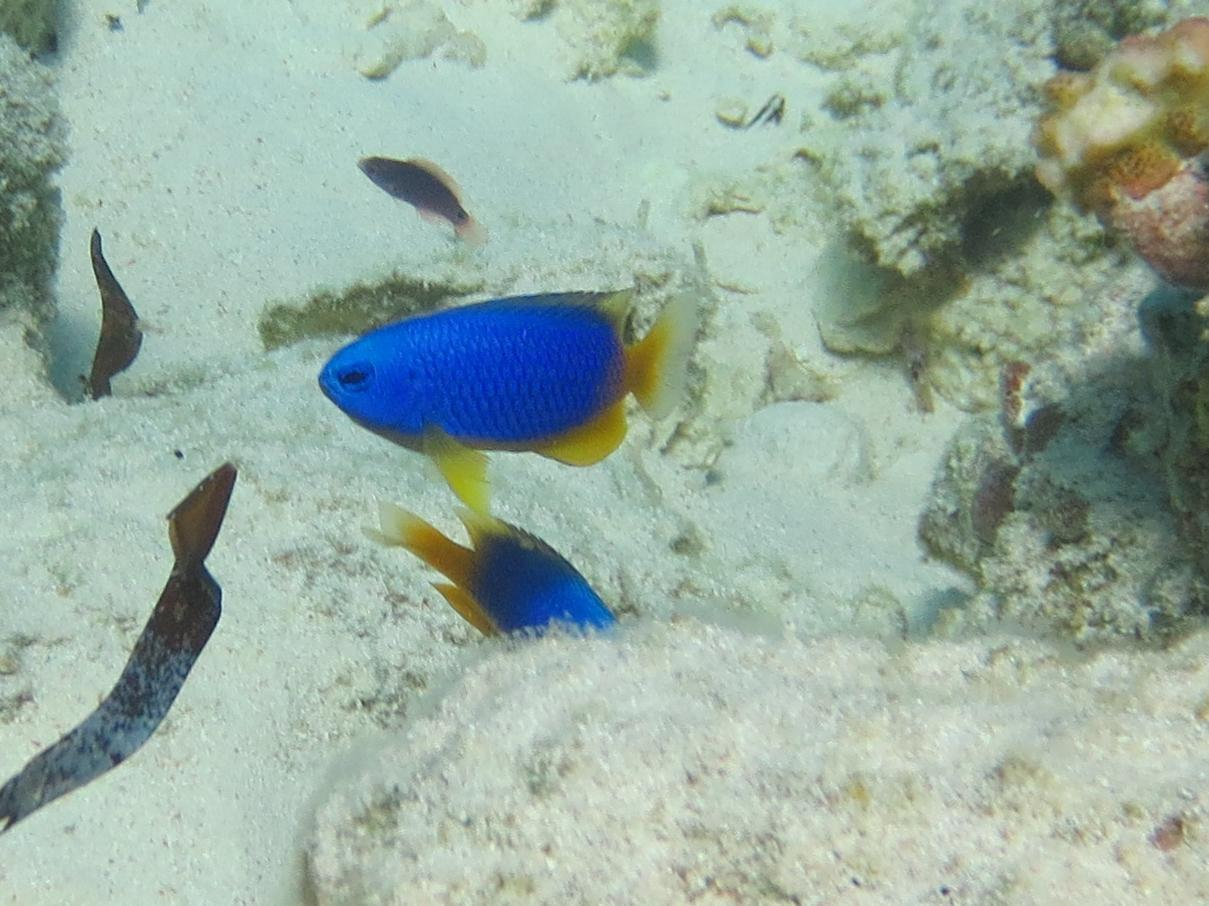Fish: (274, 274, 746, 515)
